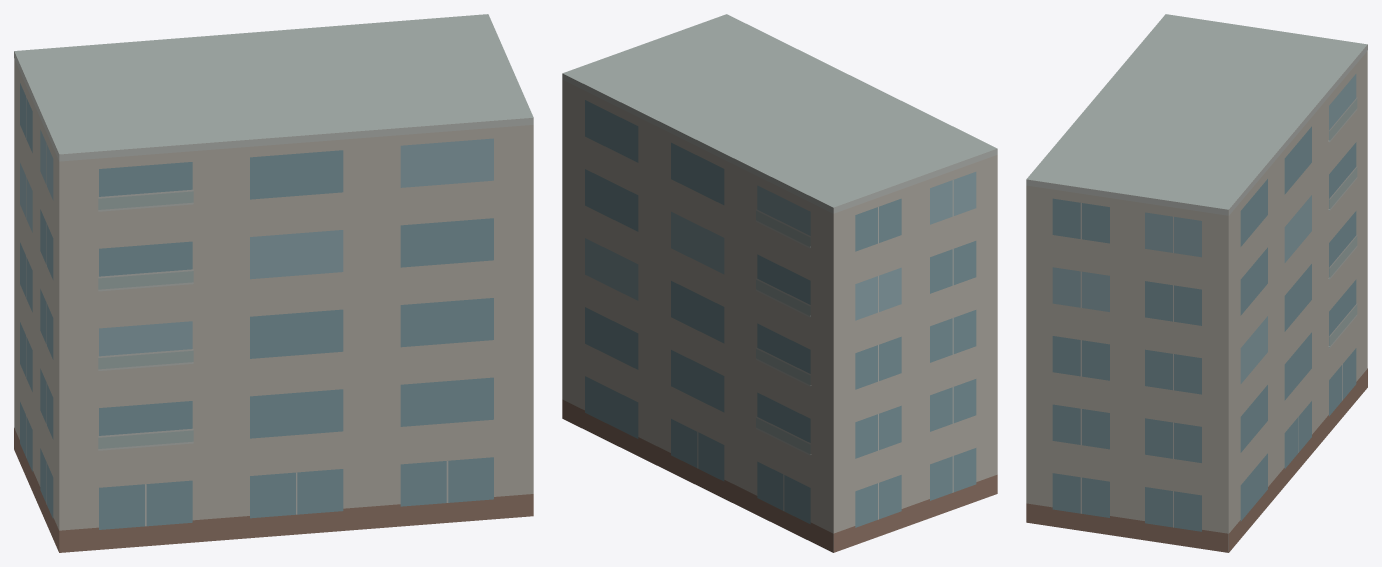
The model's file is survey-upis-32707445.glb.
3 views of the same model, side by side, from view 1: azimuth 30°, elevation 25°; view 2: azimuth 150°, elevation 25°; view 3: azimuth 270°, elevation 25° (orthographic). The views are drawn at different scales.
Parts seen in each view (by area): view 1: survey-upis-32707445.tmp; view 2: survey-upis-32707445.tmp; view 3: survey-upis-32707445.tmp.
Boxes of the visible parts, x1=… form: survey-upis-32707445.tmp: x1=14, y1=14, x2=533, y2=552; survey-upis-32707445.tmp: x1=562, y1=14, x2=997, y2=552; survey-upis-32707445.tmp: x1=1026, y1=14, x2=1367, y2=552.
Size of the model in its own units: 16.77 by 13.7 by 12.37.
